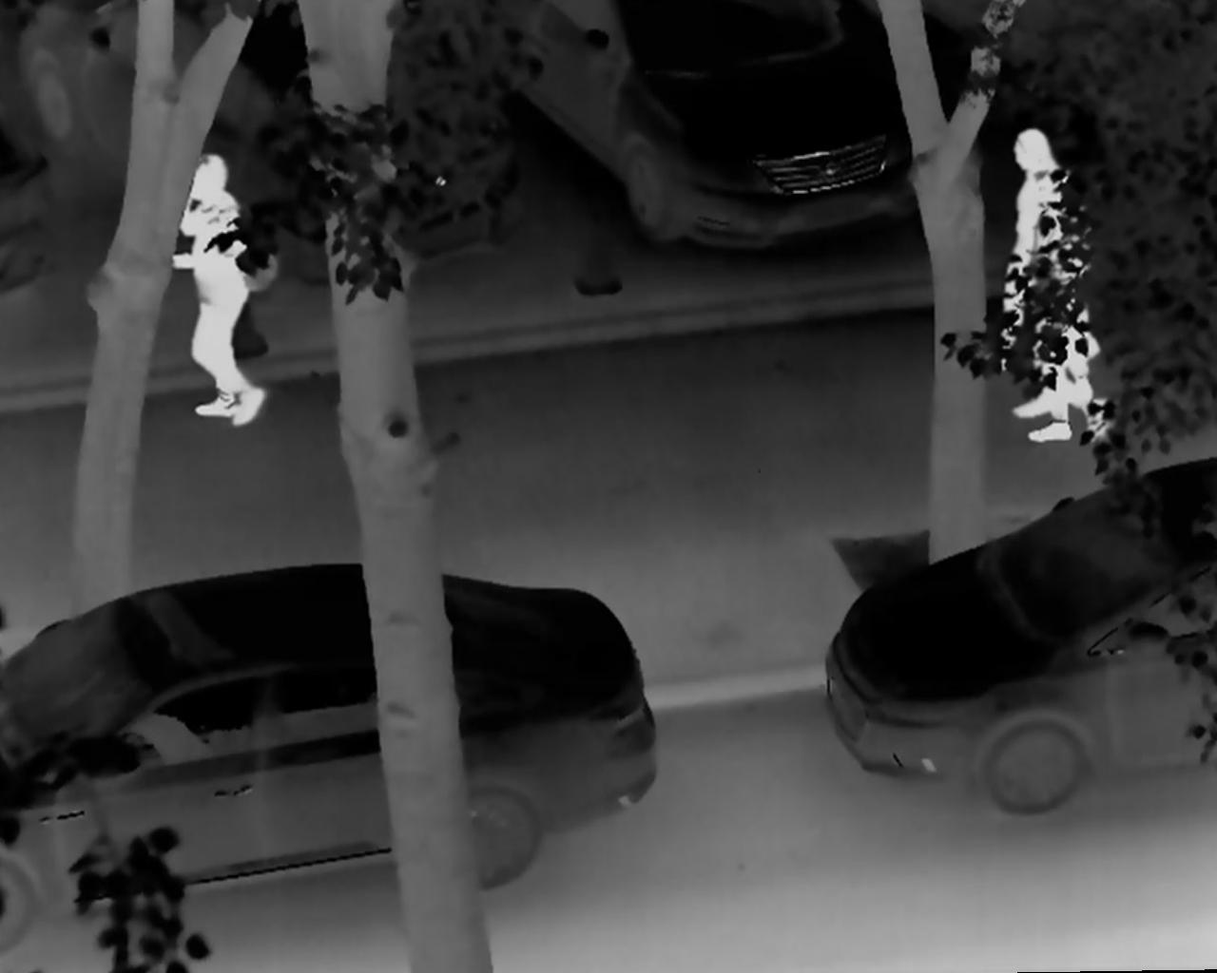person: (166, 150, 269, 433), (995, 129, 1106, 380), (1009, 192, 1115, 444), (1014, 164, 1108, 425)
